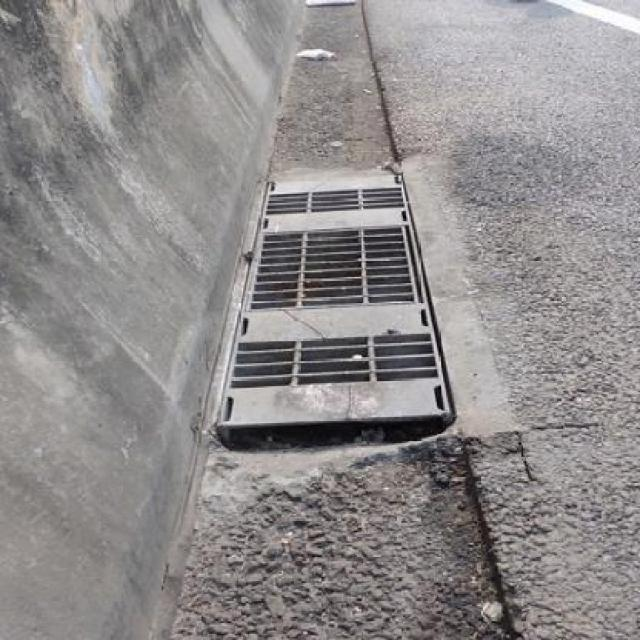Drain Hole: (257, 220, 420, 314)
